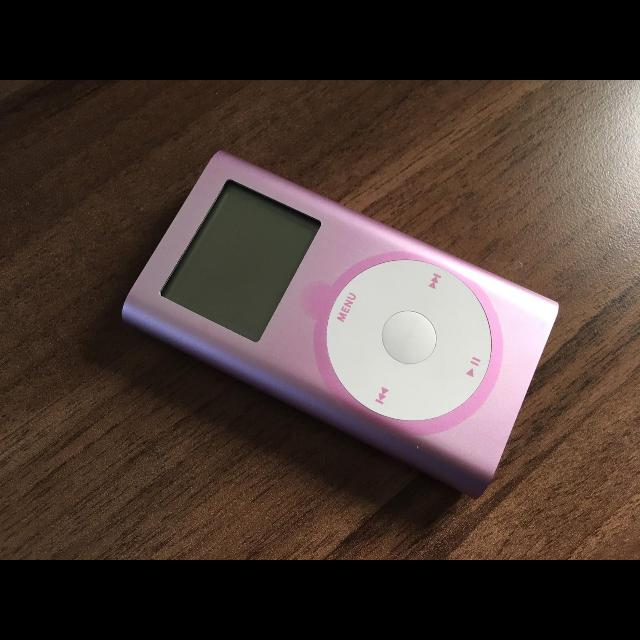Music-Player: (118, 146, 568, 514)
